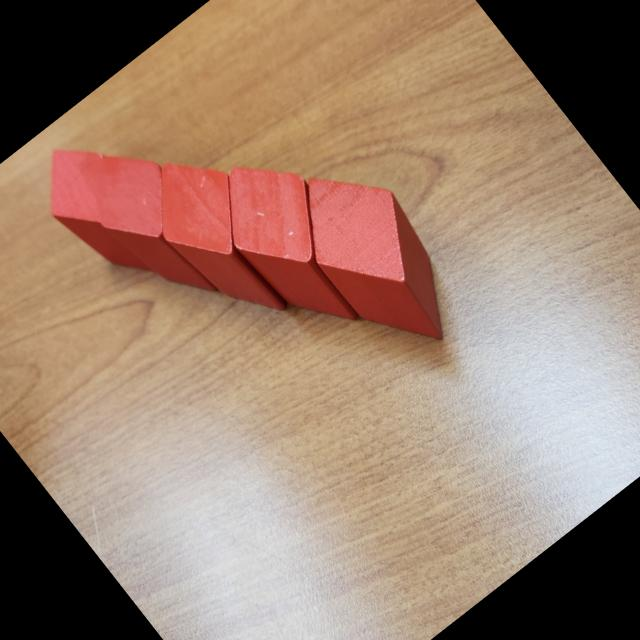red: (271, 141, 482, 370), (195, 136, 394, 352), (130, 138, 314, 340), (69, 132, 242, 322), (21, 129, 180, 302)
